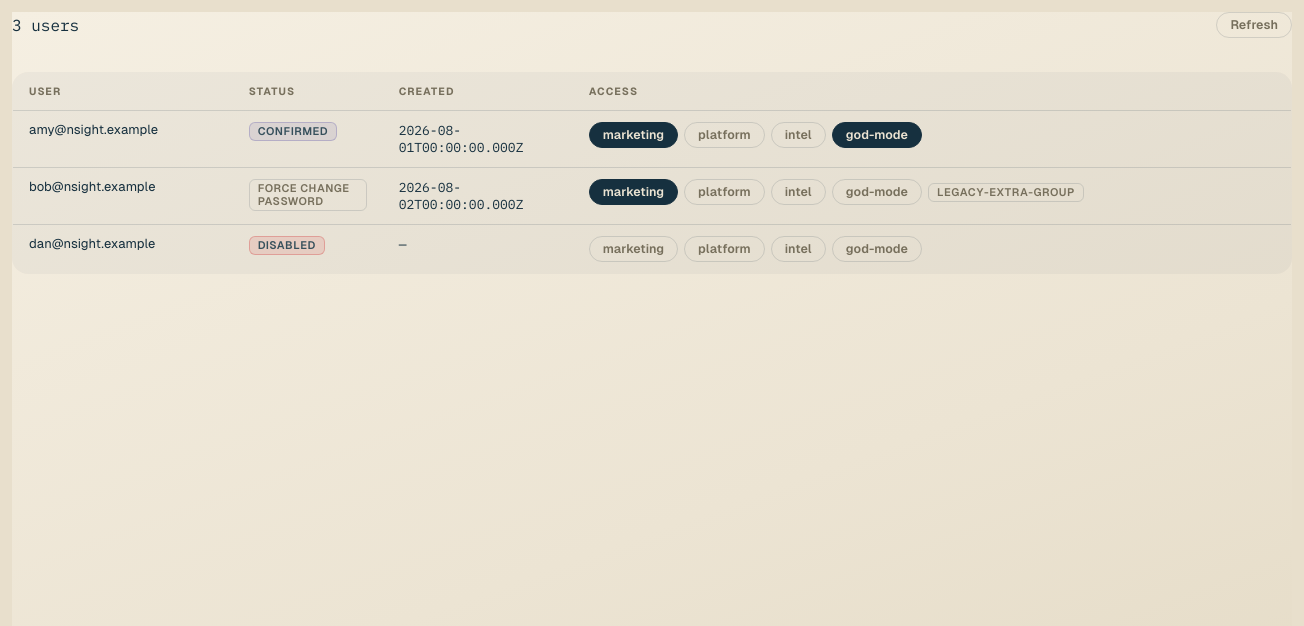
Test: UsersRoles — toggles › a failed change reverts the chip and shows the server's error
The width and height of the screenshot is (1304, 626).
Expected: the text "amy@nsight.example" is shown, 29,122 -> 158,137
Click the button "intel" in the row of "legacy-extra-group" at coordinates (798, 192), box 771,179 -> 826,205
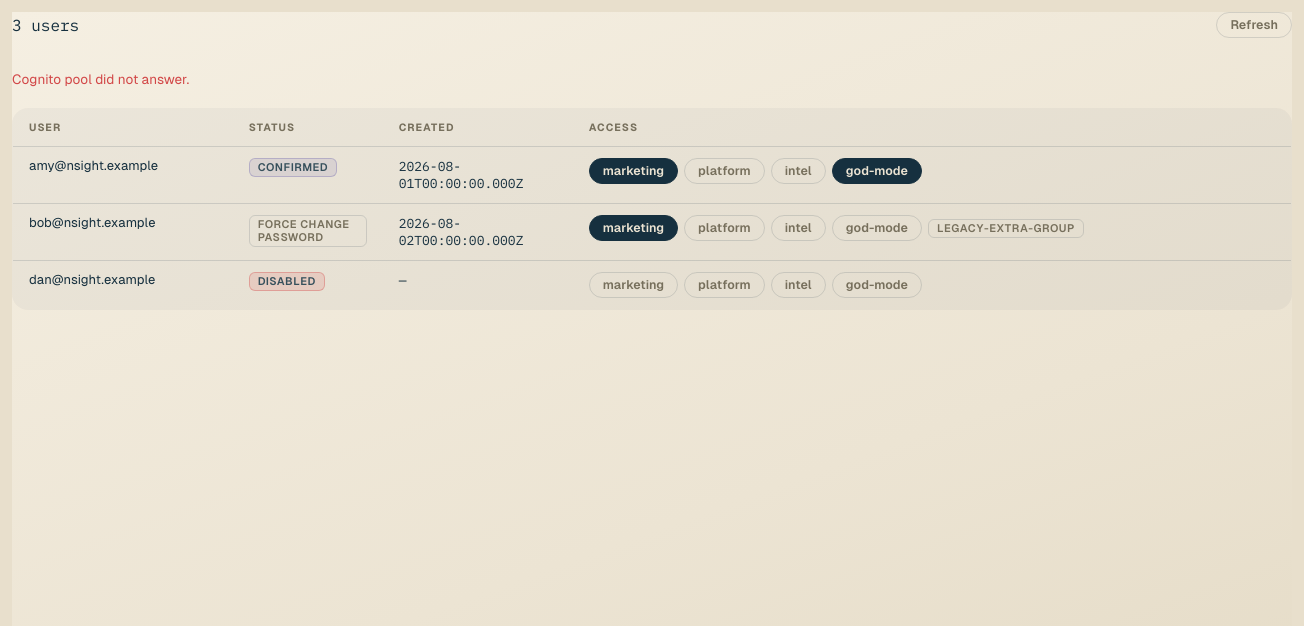
Result: the message reads "Cognito pool did not answer." at 12,72 -> 189,87
